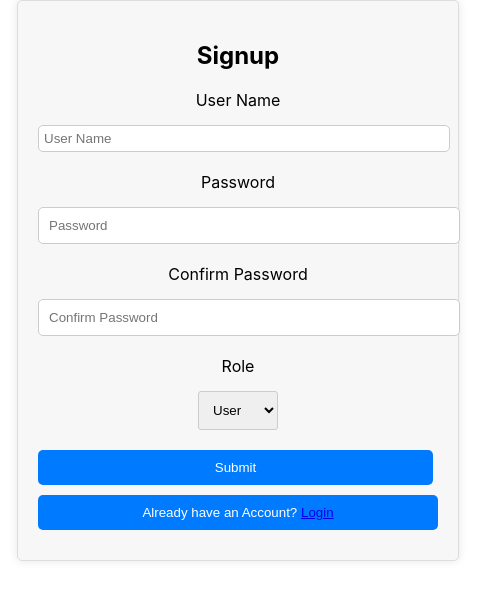
signup_component › should_show_an_error_message_when_passwords_do_not_match
Type "password123" into the password field with placeholder "Password" at (249, 225), box 38,207 -> 460,244
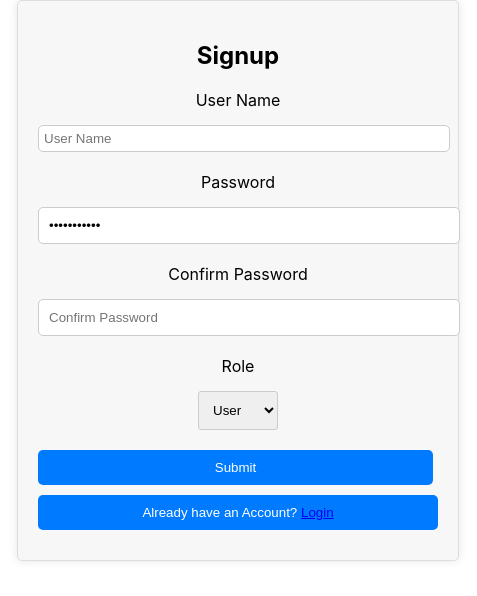
Type "password456" into the password field with placeholder "Confirm Password" at (249, 317), box 38,299 -> 460,336
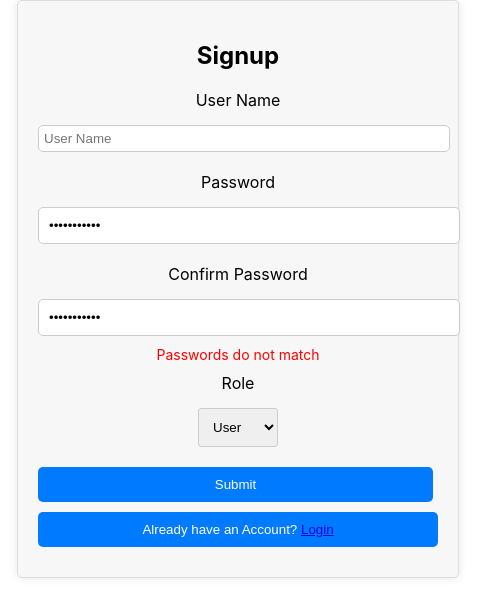
Expected: the text "Passwords do not match" is shown, 156,346 -> 320,363
